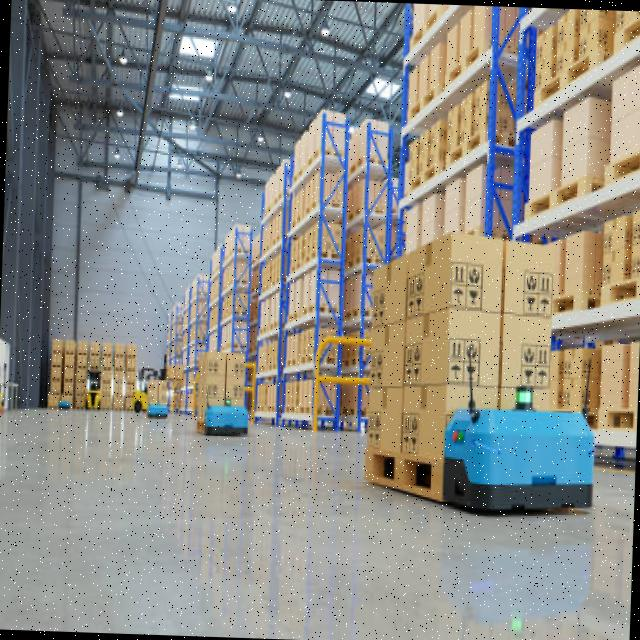Wooden-Pallets: (357, 447, 443, 512), (530, 41, 596, 110), (521, 168, 587, 226)
